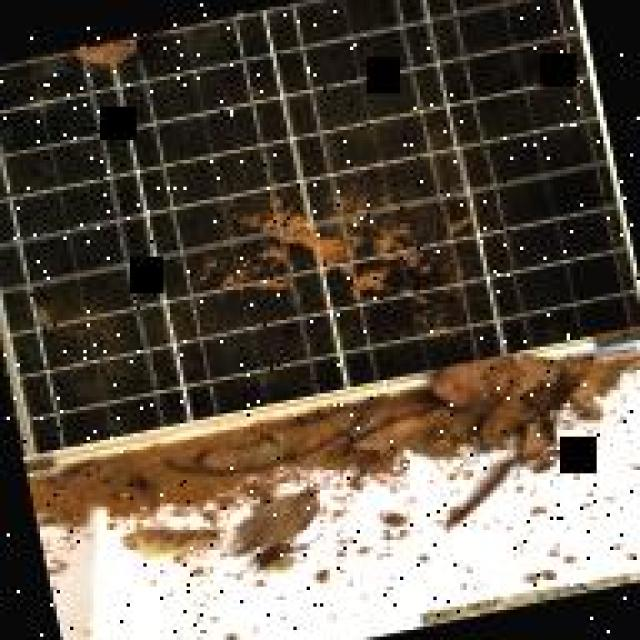dust-solar-panel: (0, 0, 638, 453)
